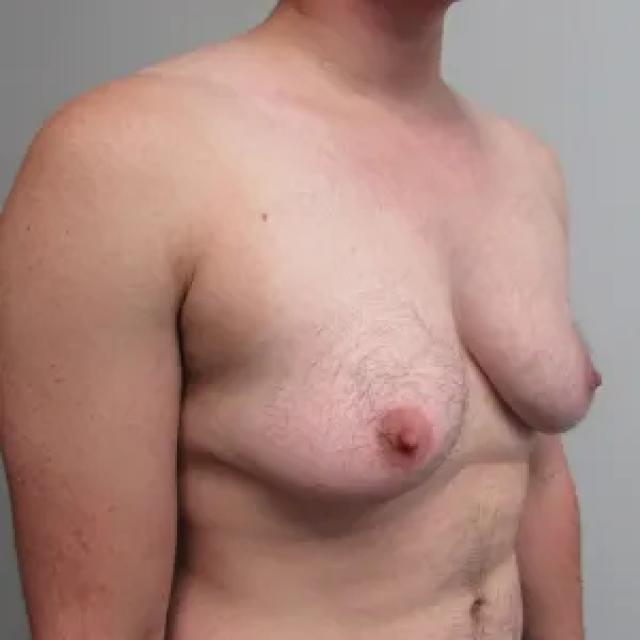Seno ileso: (180, 227, 472, 526), (475, 227, 608, 452)
